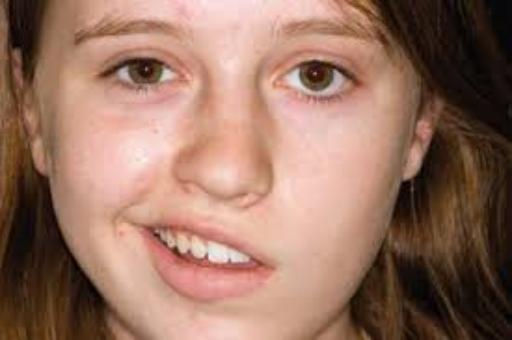left_eye: (274, 59, 365, 100)
left_lip_corner: (251, 247, 284, 283)
right_eye: (95, 55, 188, 92)
right_lip_corner: (123, 217, 158, 237)
